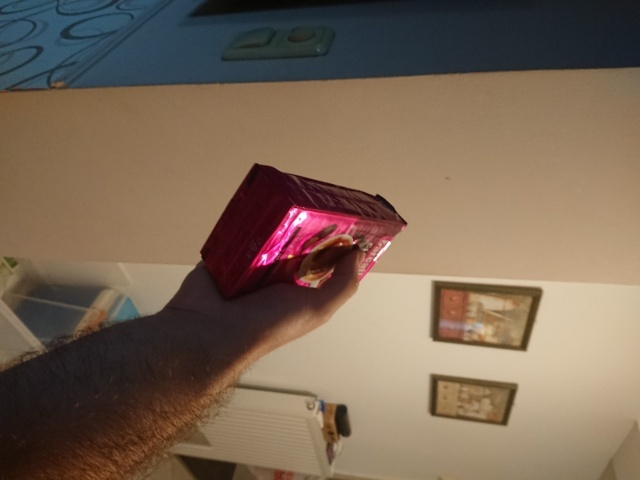Barcaffe Classic Original 225g: (198, 161, 410, 305)
